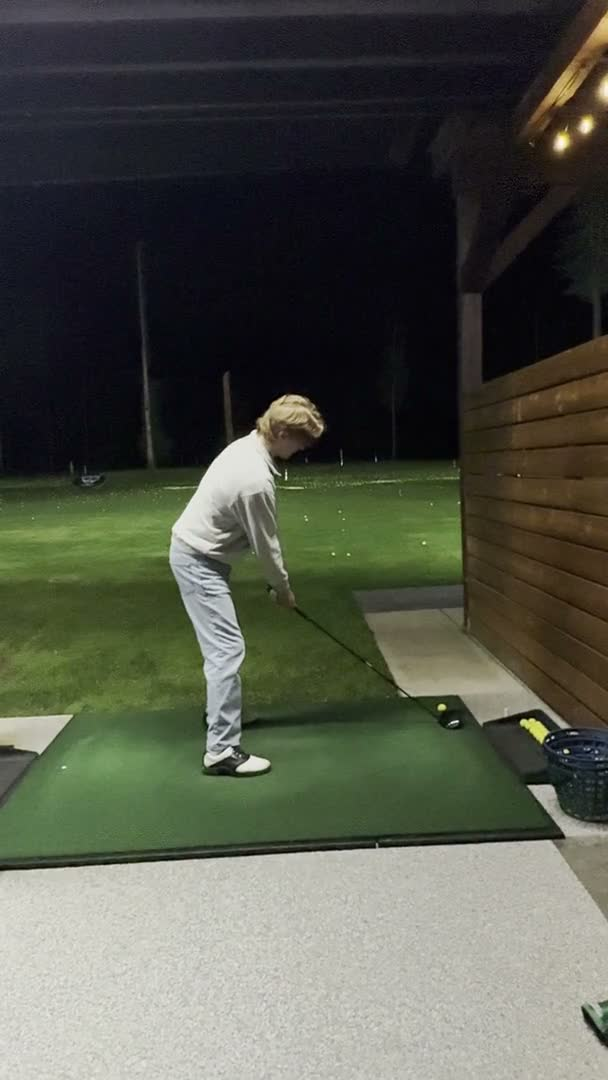Golf Ball: (435, 702, 451, 715)
